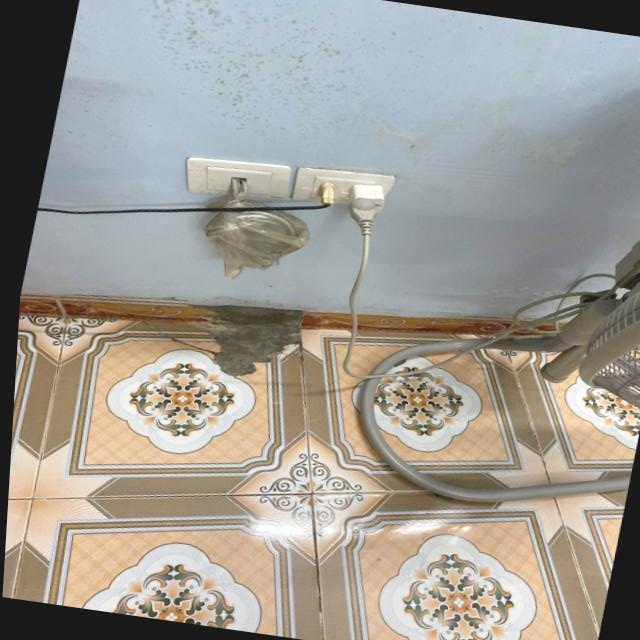outlet: (178, 152, 294, 207), (289, 161, 397, 215)
